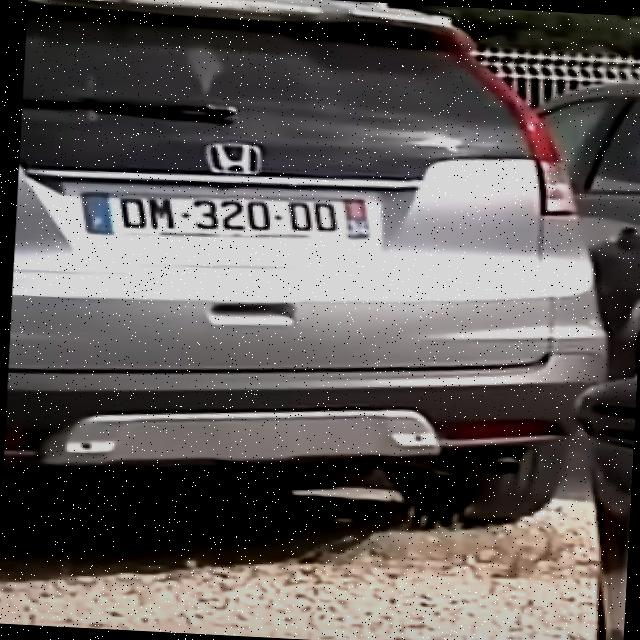EU: (63, 186, 381, 250)
France: (76, 186, 115, 245)
